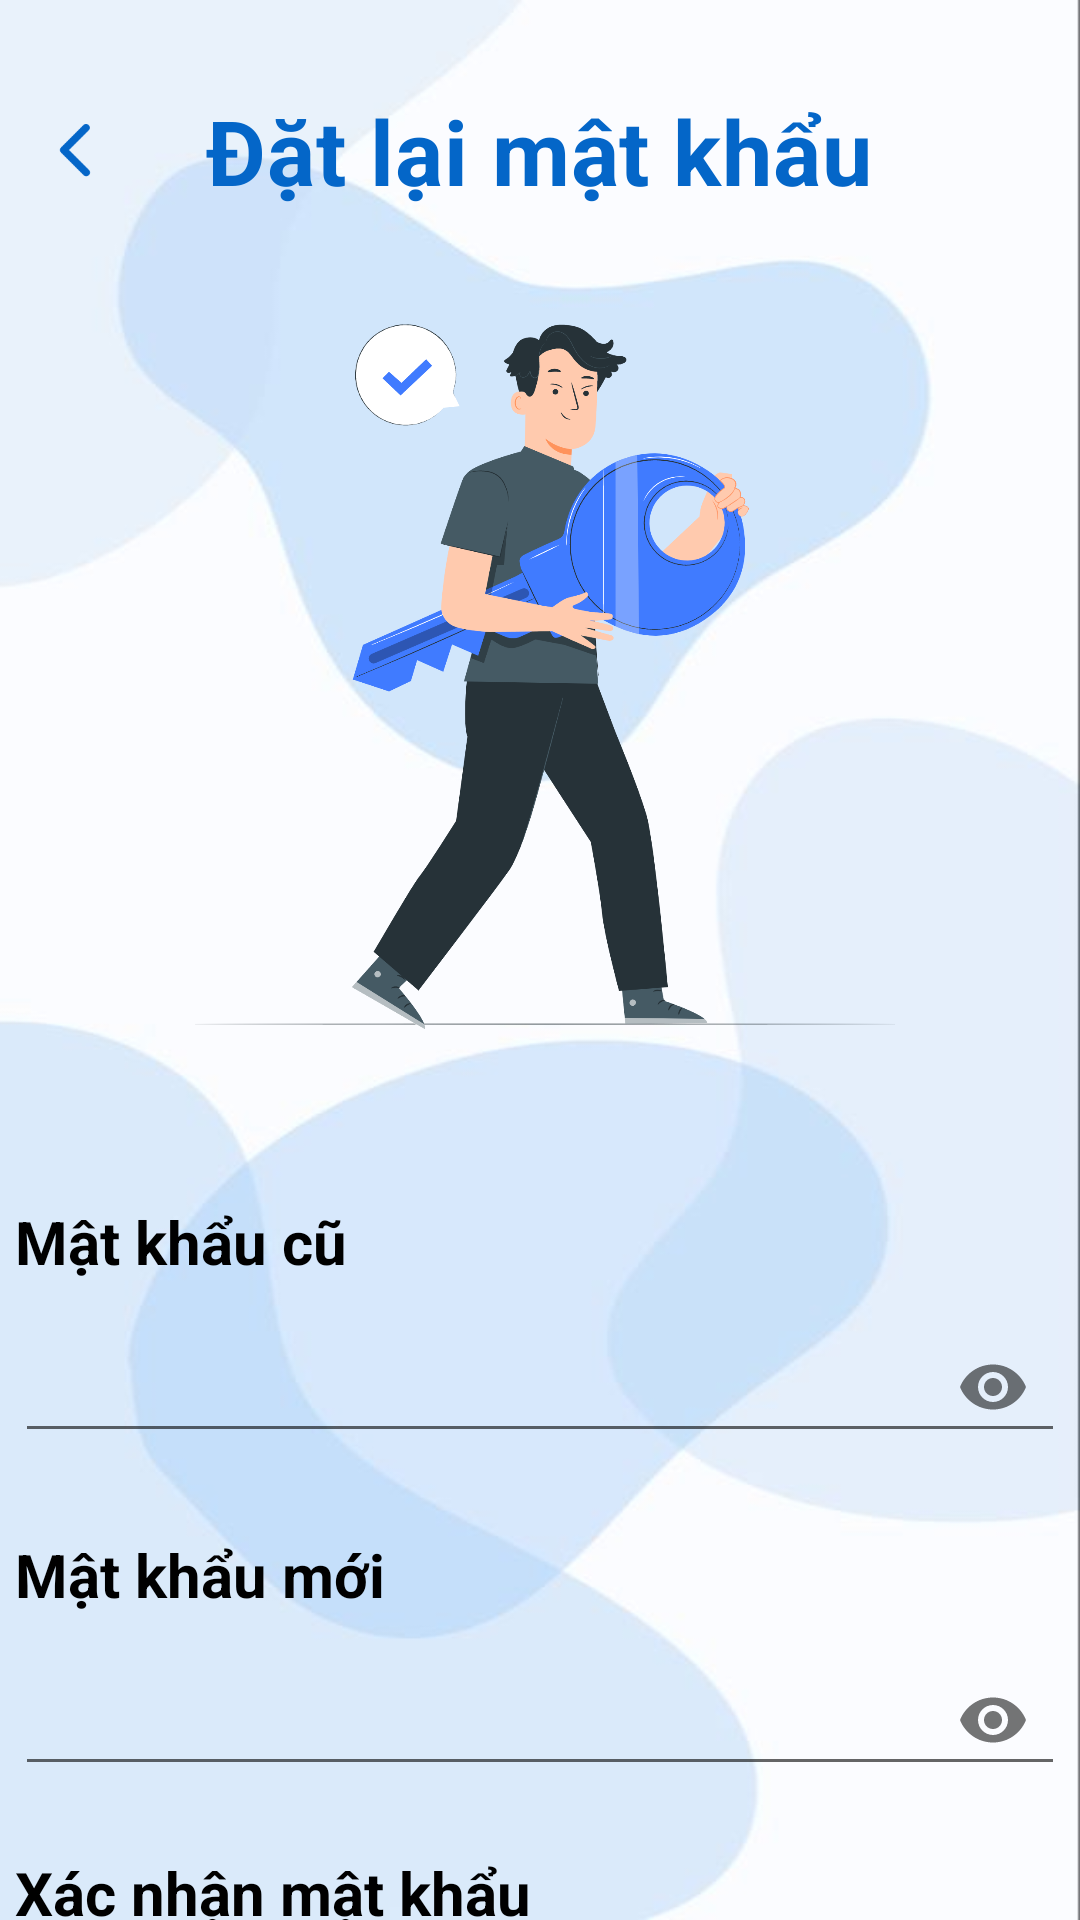

Named icons in this screenshot (1080 × 1920) and their bounding boxes, (x1, y1, x2, y2):
back nhi: (59, 124, 91, 177)
